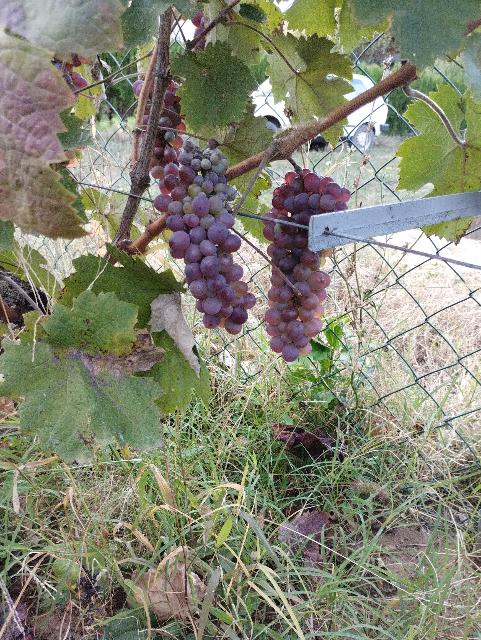grapes: (155, 139, 256, 335), (262, 169, 351, 362)
